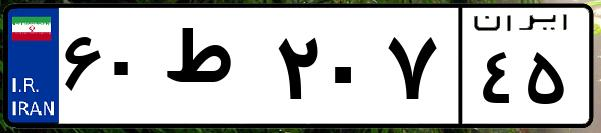0: (330, 28, 385, 110), (110, 28, 158, 98)
2: (270, 28, 330, 110)
4: (475, 38, 525, 113)
5: (525, 38, 570, 115)
6: (57, 26, 110, 100)
7: (385, 28, 445, 110)
ط: (158, 20, 270, 120)
